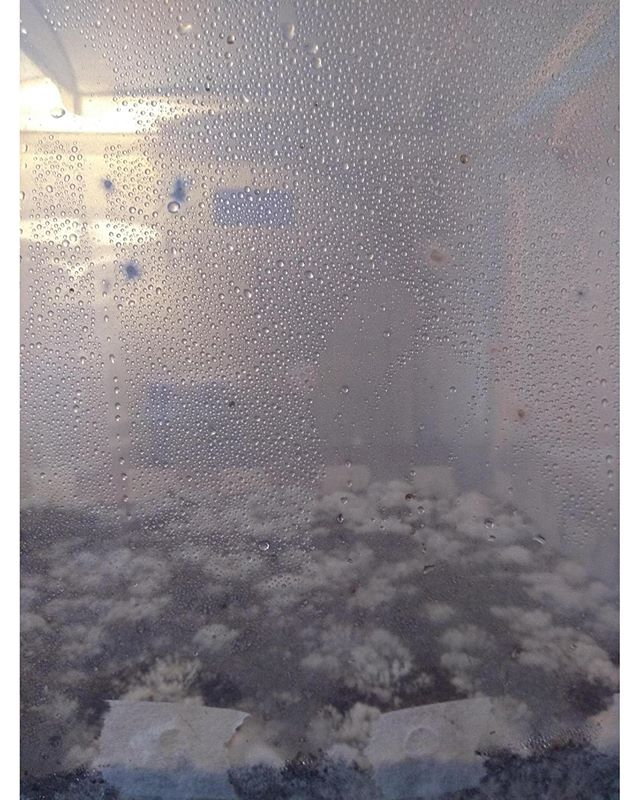sky: (20, 1, 629, 794)
